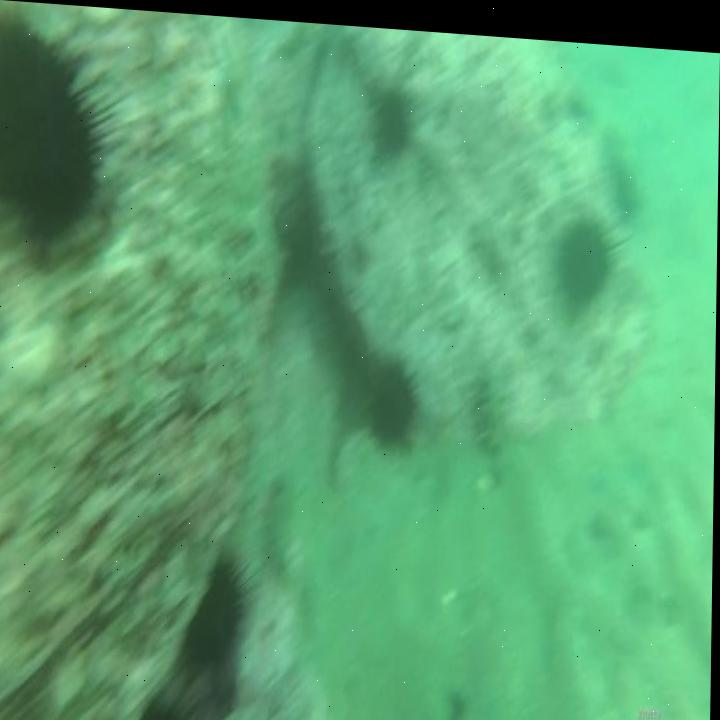echinus: (0, 11, 101, 239), (186, 545, 251, 676), (560, 195, 613, 313), (369, 344, 417, 455), (372, 77, 416, 157)
